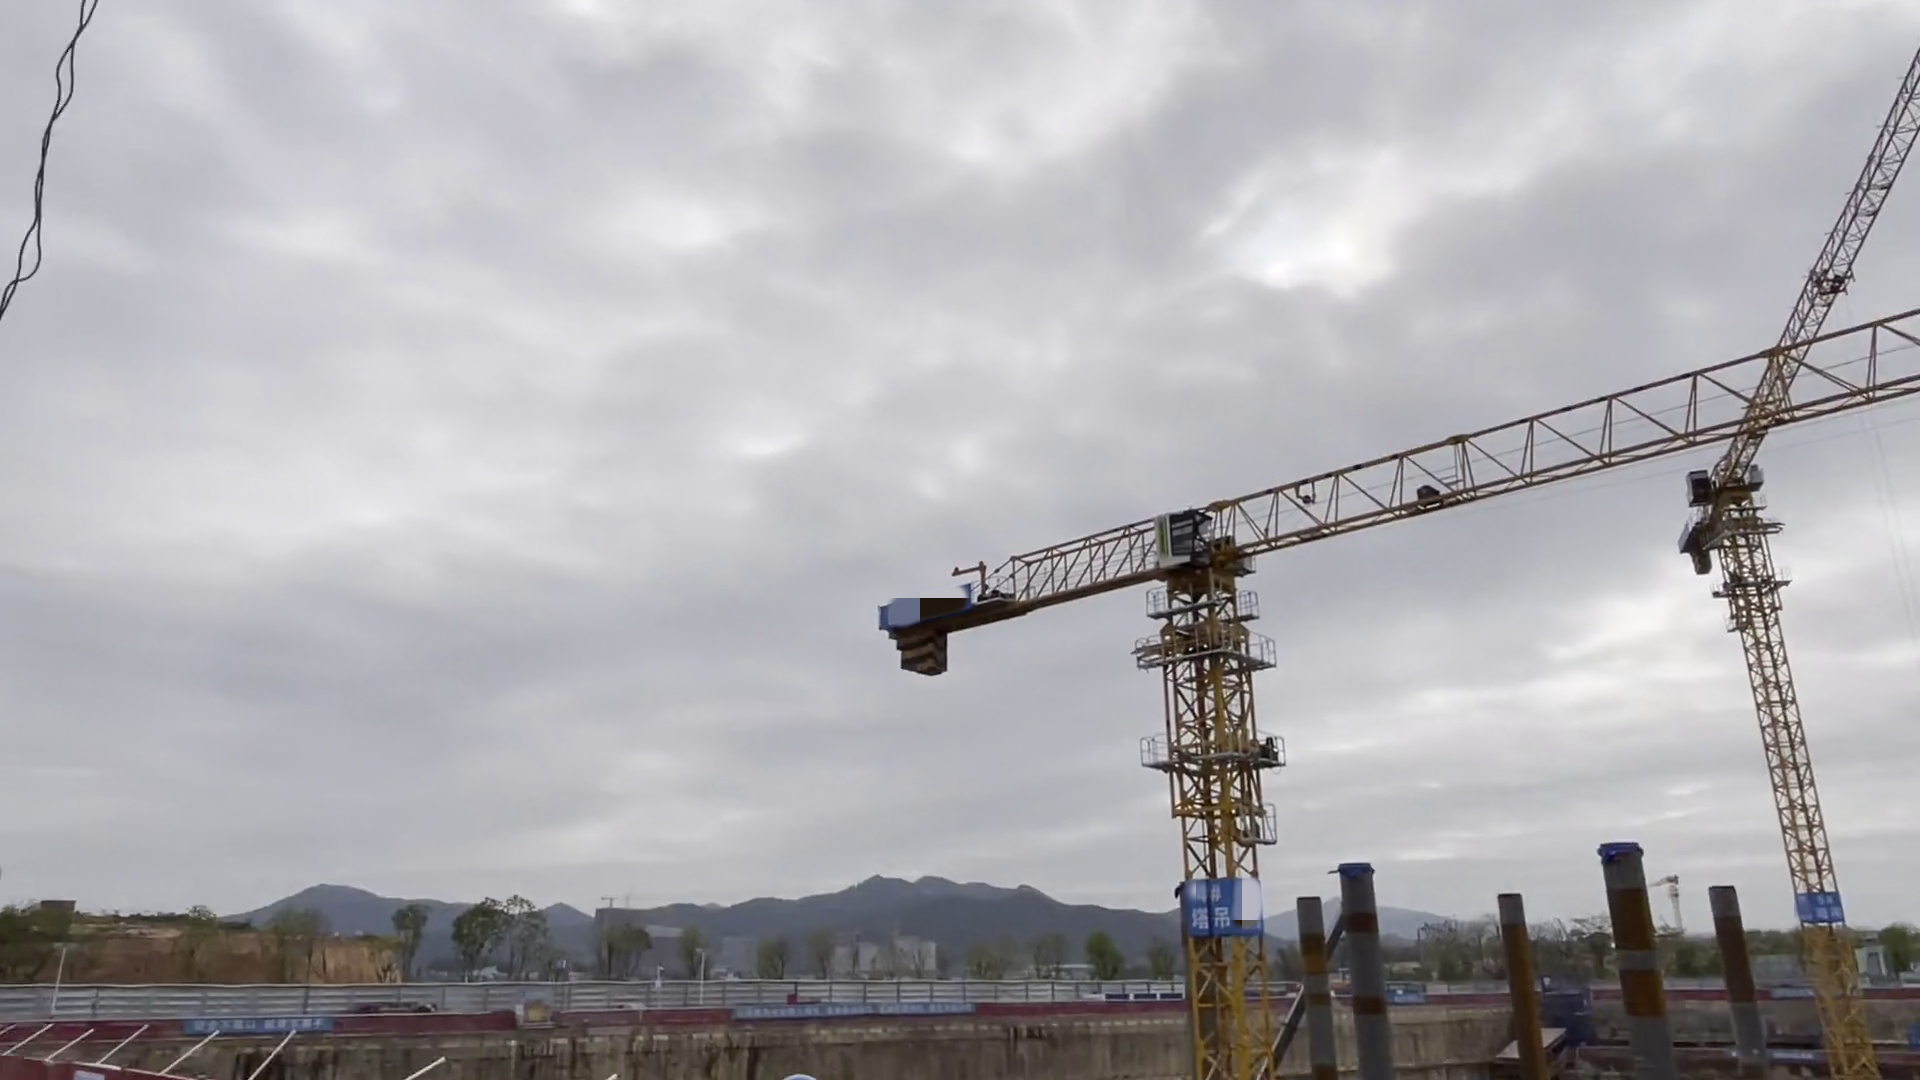fence: (583, 981, 1083, 1025)
slogan: (200, 1013, 334, 1043), (1178, 877, 1241, 939)
